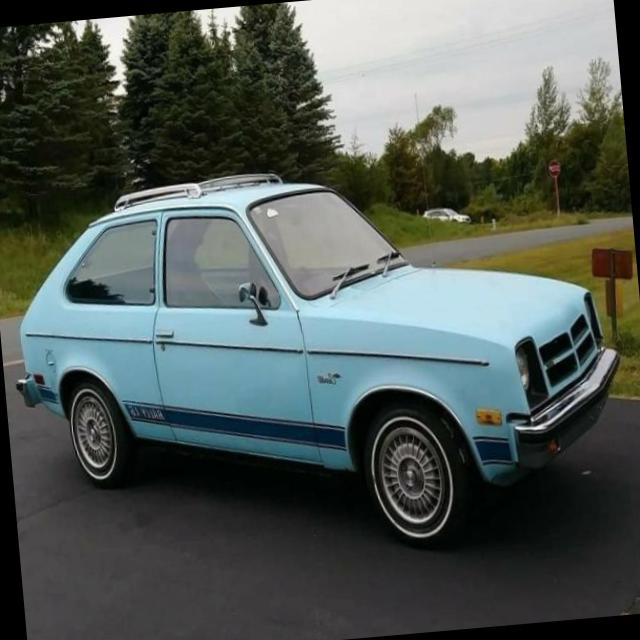car: (0, 142, 635, 580)
